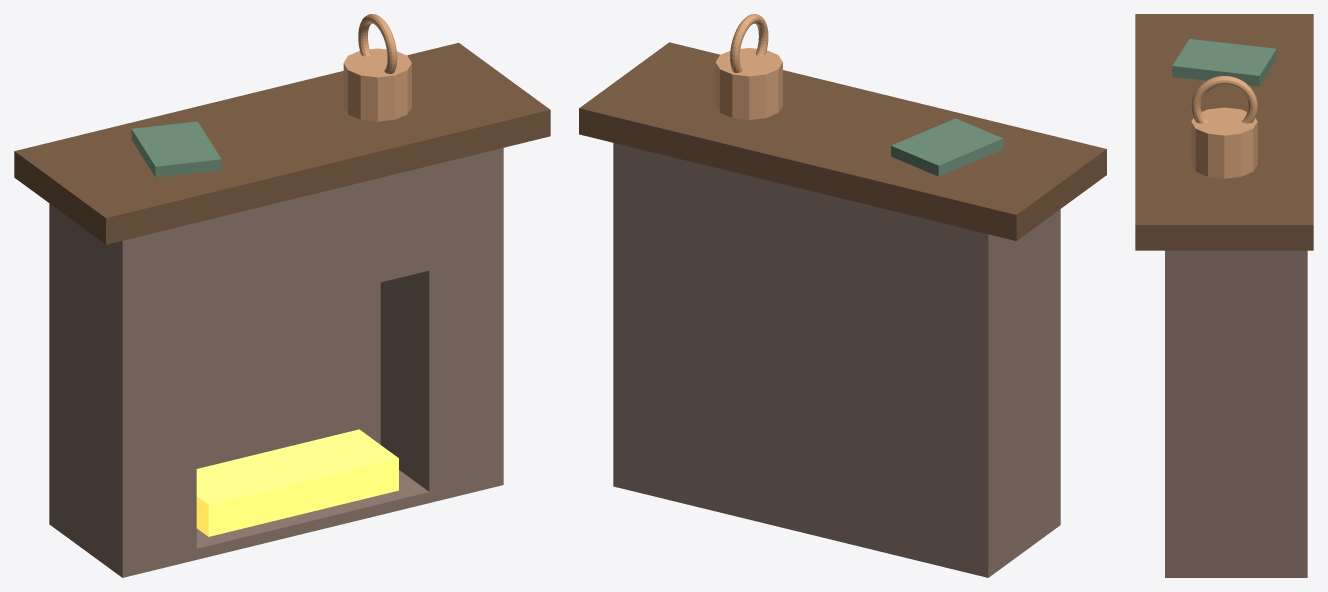
File: servant_hearth.glb
The picture shows the model from 3 angles, left to right: view 1: azimuth 30°, elevation 25°; view 2: azimuth 150°, elevation 25°; view 3: azimuth 270°, elevation 25°; orthographic projection. The views are drawn at different scales.
Visible parts, largest first — view 1: Cube, Cube.001, Cube.002, Cylinder, ServantsDiary, Torus; view 2: Cube, Cube.001, Cylinder, ServantsDiary, Torus; view 3: Cube, Cube.001, Cylinder, ServantsDiary, Torus.
Boxes of the visible parts, x1,y1,x2,y2 form: Cube: [49, 148, 503, 577]; Cube.001: [14, 42, 550, 244]; Cube.002: [196, 429, 398, 536]; Cylinder: [343, 48, 411, 121]; ServantsDiary: [131, 121, 221, 177]; Torus: [358, 14, 397, 73]; Cube: [613, 143, 1060, 577]; Cube.001: [579, 42, 1106, 240]; Cylinder: [715, 48, 782, 119]; ServantsDiary: [891, 118, 1003, 176]; Torus: [730, 14, 768, 72]; Cube: [1165, 250, 1307, 577]; Cube.001: [1135, 14, 1313, 250]; Cylinder: [1191, 107, 1257, 178]; ServantsDiary: [1172, 39, 1276, 86]; Torus: [1191, 76, 1257, 123].
Bounding box in the file's own units: 2.1 × 2.12 × 0.75.
